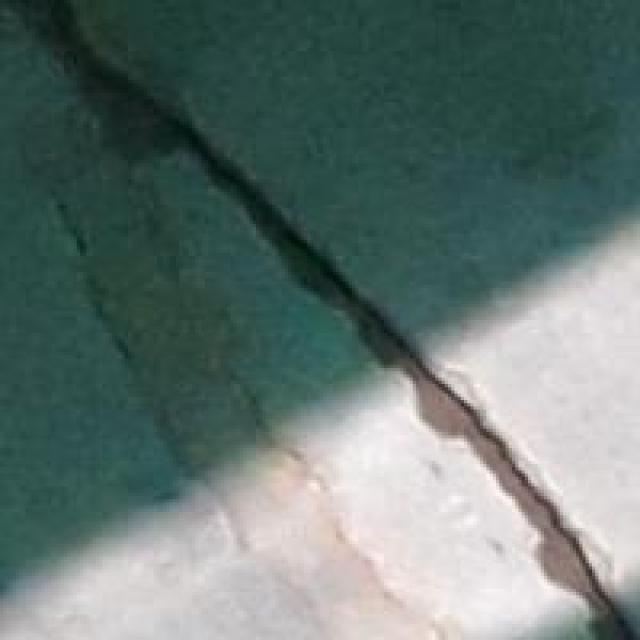crack: (19, 0, 614, 637)
